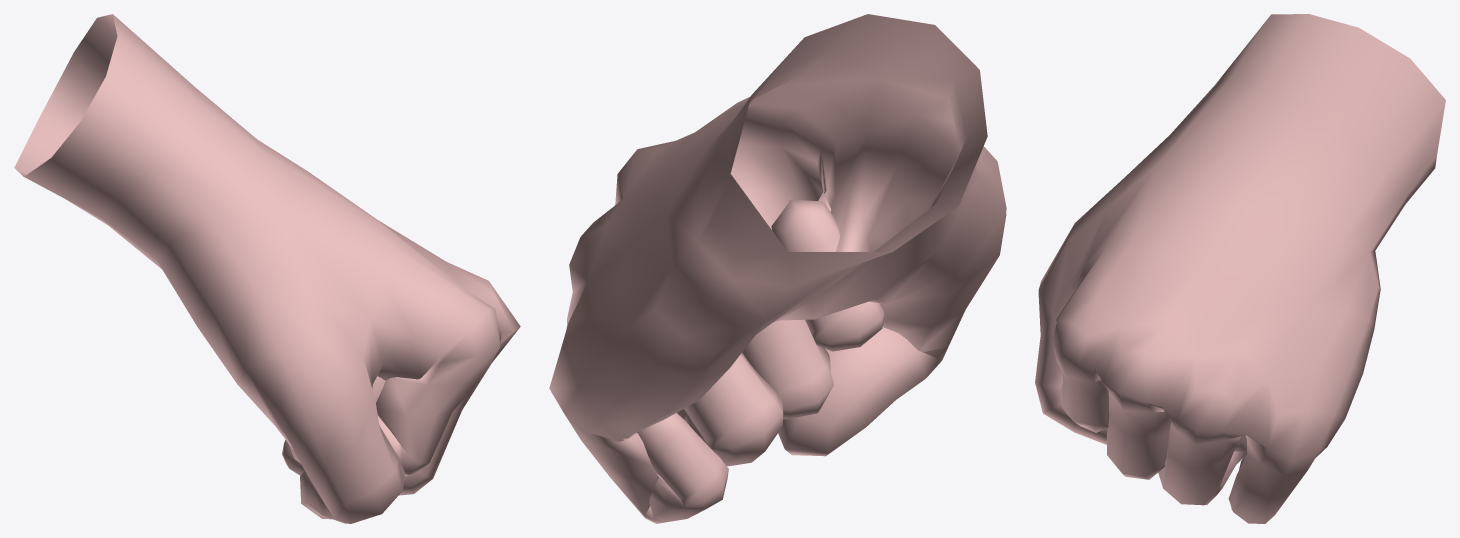
File: Anime_Male_A_Fist02.fbx
3 renders of one model, left to right at view 1: azimuth 30°, elevation 25°; view 2: azimuth 150°, elevation 25°; view 3: azimuth 270°, elevation 25°, orthographic. The views are drawn at different scales.
Parts seen in each view (by area): view 1: Anime_Male_A_Fist02; view 2: Anime_Male_A_Fist02; view 3: Anime_Male_A_Fist02.
Part boxes in pixels (x1,y1,x2,y2): Anime_Male_A_Fist02: (14,14,520,523); Anime_Male_A_Fist02: (549,14,1006,523); Anime_Male_A_Fist02: (1035,14,1445,523).
Size of the model in its own units: 0.5642 by 0.6779 by 0.5956.
